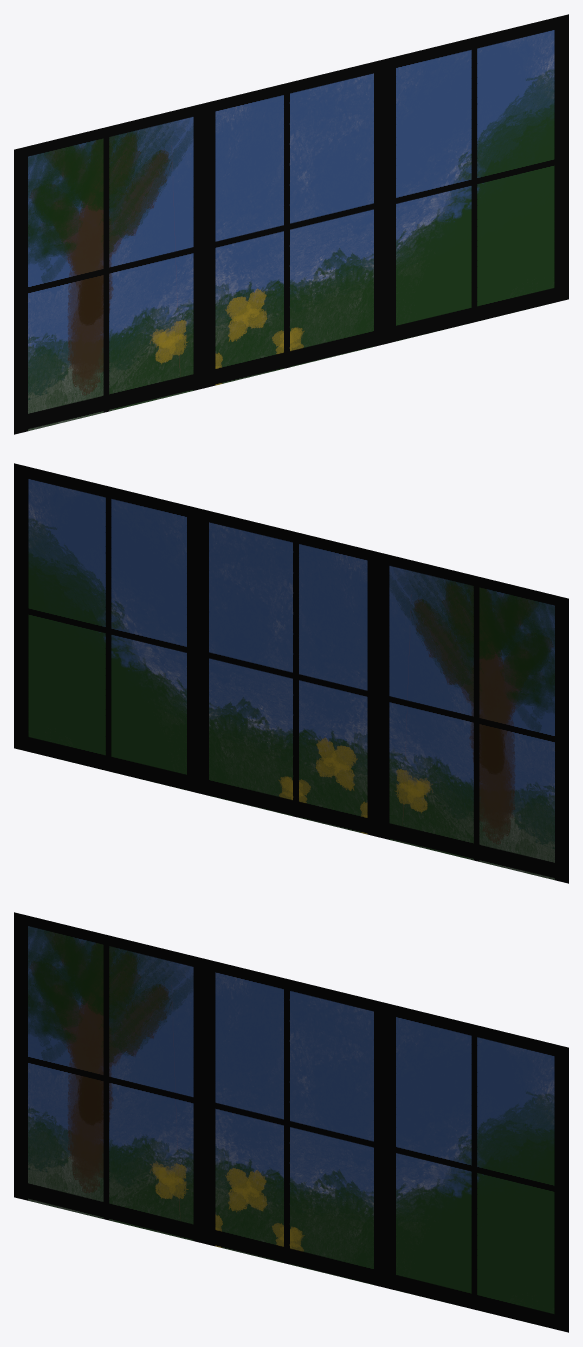
File: KitchenWindow.fbx
The picture shows the model from 3 angles, top to bottom: view 1: azimuth 30°, elevation 25°; view 2: azimuth 150°, elevation 25°; view 3: azimuth 330°, elevation 25°; orthographic projection.
Visible parts, largest first — view 1: pPlane1; view 2: pPlane1; view 3: pPlane1.
Part boxes in pixels (bbox=[...]): pPlane1: bbox=[14, 14, 568, 434]; pPlane1: bbox=[14, 463, 568, 883]; pPlane1: bbox=[14, 912, 568, 1332].
Size of the model in its own units: 16.3 by 8 by 4.9e-16.
Materials: 1 (1 with a texture image).
